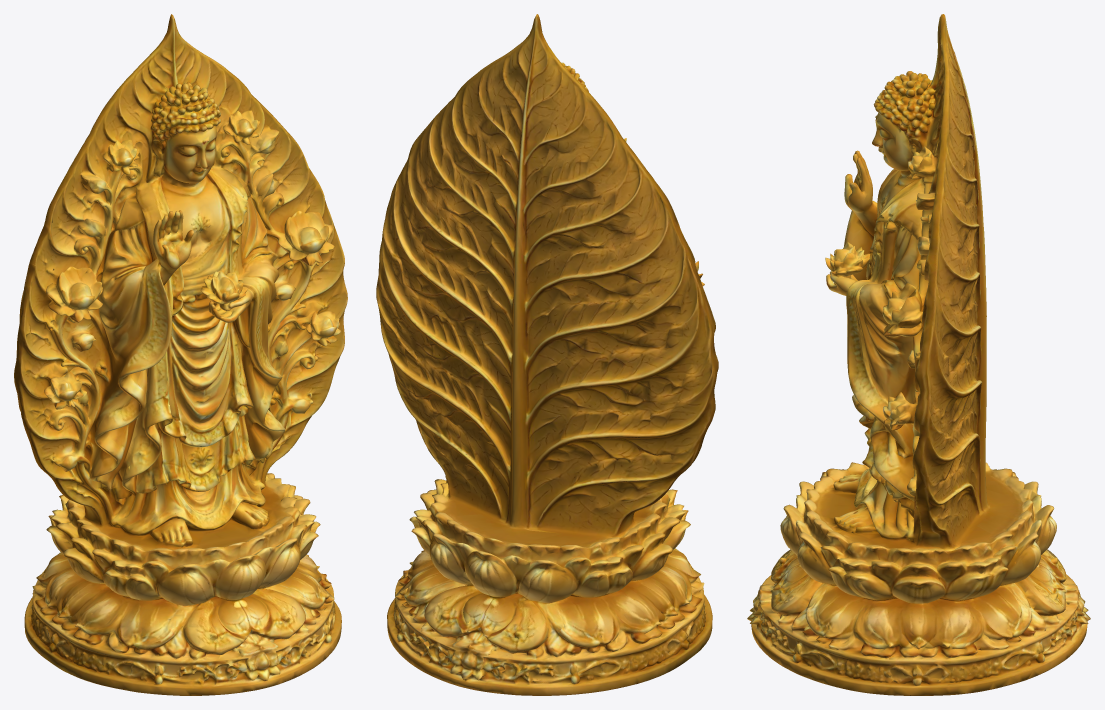
3 renders of one model, left to right at view 1: azimuth 30°, elevation 25°; view 2: azimuth 150°, elevation 25°; view 3: azimuth 270°, elevation 25°, orthographic. The views are drawn at different scales.
Visible parts, largest first — view 1: four-heavenly-kings-01; view 2: four-heavenly-kings-01; view 3: four-heavenly-kings-01.
Part boxes in pixels (x1,y1,x2,y2): four-heavenly-kings-01: [14, 14, 347, 695]; four-heavenly-kings-01: [376, 14, 718, 695]; four-heavenly-kings-01: [747, 14, 1090, 695].
Size of the model in its own units: 0.57 by 0.9999 by 0.5061.
1 material, 1 textured.
